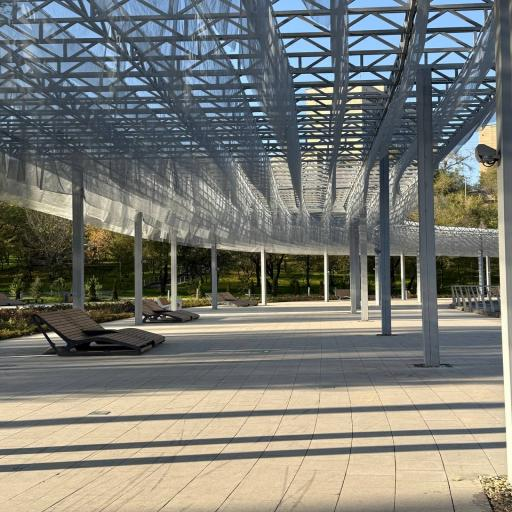laptop: (143, 272, 194, 288)
ramp: (64, 292, 72, 304)
trash_bin: (31, 309, 165, 356), (131, 299, 200, 323)
